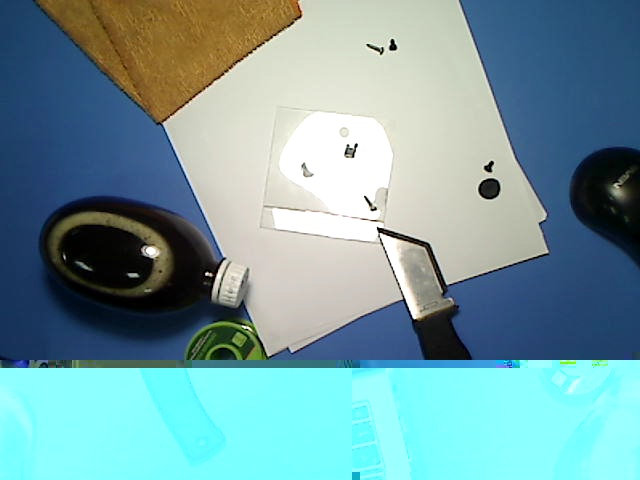plast_bottle: (35, 193, 251, 320)
